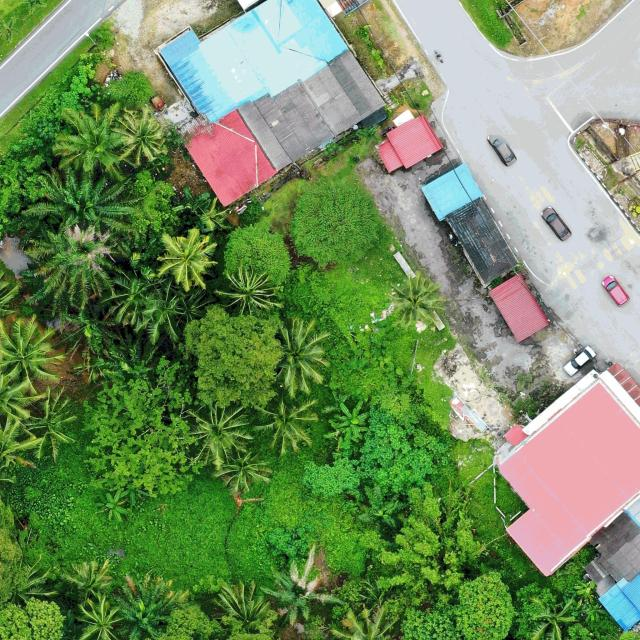Tree: (82, 355, 201, 494), (374, 481, 488, 602), (182, 304, 283, 419), (19, 218, 120, 322), (20, 168, 140, 236), (290, 181, 380, 269), (260, 542, 344, 619), (53, 102, 128, 182), (264, 318, 331, 400), (0, 316, 66, 392), (16, 384, 79, 462), (186, 400, 253, 468), (226, 224, 292, 290), (112, 573, 175, 640), (156, 228, 218, 294), (210, 581, 278, 640), (256, 396, 318, 456), (390, 272, 448, 332), (99, 270, 158, 328), (217, 260, 276, 316), (216, 441, 272, 493), (113, 110, 165, 165), (0, 596, 64, 640), (327, 604, 401, 640), (72, 592, 124, 640), (524, 592, 576, 640), (142, 289, 184, 347), (58, 560, 115, 600), (328, 399, 370, 444), (108, 69, 154, 110), (171, 184, 211, 214), (98, 489, 131, 523), (573, 579, 597, 608), (356, 125, 382, 147), (582, 603, 606, 623)
